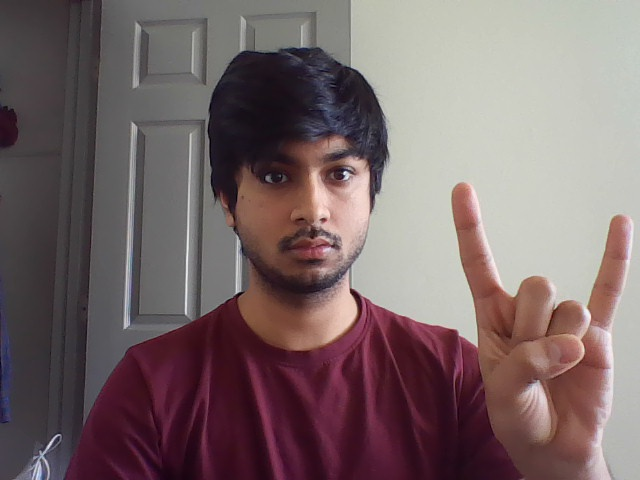help: (446, 176, 637, 359)
